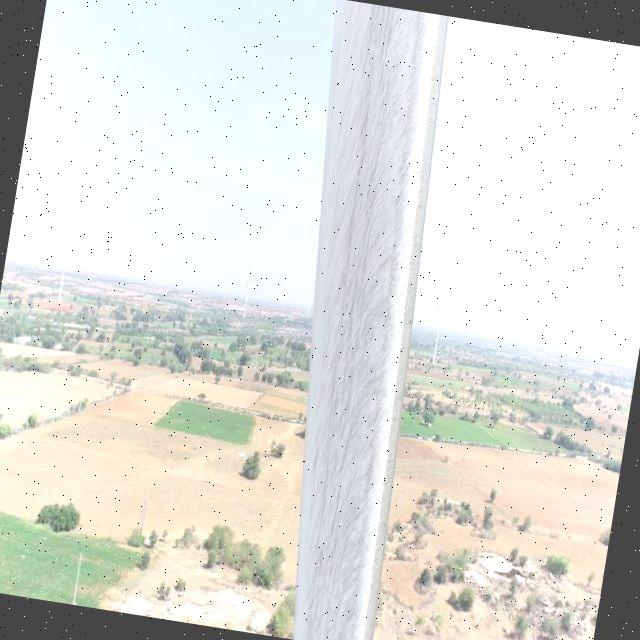Dirt: (297, 0, 452, 640)
